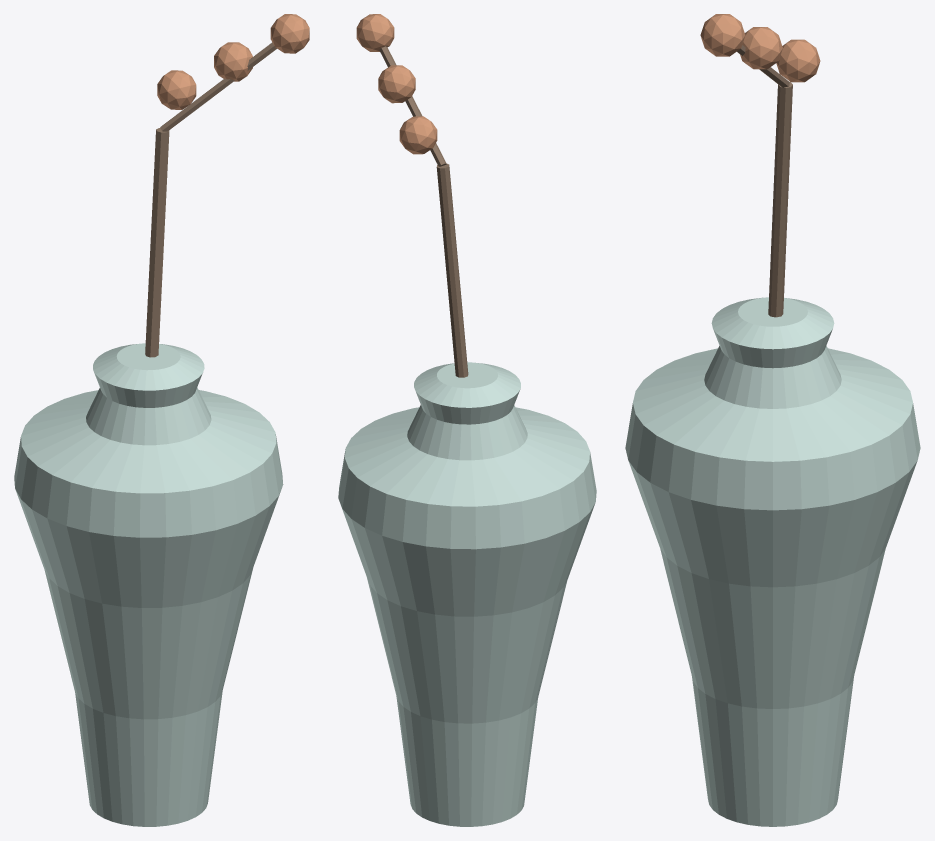
File: prop_porcelain_vase.glb
The picture shows the model from 3 angles, left to right: view 1: azimuth 30°, elevation 25°; view 2: azimuth 150°, elevation 25°; view 3: azimuth 270°, elevation 25°; orthographic projection. The views are drawn at different scales.
Visible parts, largest first — view 1: prop_porcelain_vase/porcelain_plum_vase_00000, prop_porcelain_vase/vase_plum_twig_00001, prop_porcelain_vase/plum_blossom_bud_00003, prop_porcelain_vase/plum_blossom_bud_00004, prop_porcelain_vase/plum_blossom_bud_00005, prop_porcelain_vase/vase_plum_branch_00002; view 2: prop_porcelain_vase/porcelain_plum_vase_00000, prop_porcelain_vase/vase_plum_twig_00001, prop_porcelain_vase/plum_blossom_bud_00004, prop_porcelain_vase/plum_blossom_bud_00005, prop_porcelain_vase/plum_blossom_bud_00003, prop_porcelain_vase/vase_plum_branch_00002; view 3: prop_porcelain_vase/porcelain_plum_vase_00000, prop_porcelain_vase/vase_plum_twig_00001, prop_porcelain_vase/plum_blossom_bud_00003, prop_porcelain_vase/plum_blossom_bud_00004, prop_porcelain_vase/plum_blossom_bud_00005.
Part boxes in pixels (<box>): prop_porcelain_vase/porcelain_plum_vase_00000: <box>14,343,283,826</box>; prop_porcelain_vase/vase_plum_twig_00001: <box>145,128,169,357</box>; prop_porcelain_vase/plum_blossom_bud_00003: <box>270,14,309,53</box>; prop_porcelain_vase/plum_blossom_bud_00004: <box>157,70,196,109</box>; prop_porcelain_vase/plum_blossom_bud_00005: <box>214,42,252,81</box>; prop_porcelain_vase/vase_plum_branch_00002: <box>160,42,276,131</box>; prop_porcelain_vase/porcelain_plum_vase_00000: <box>338,362,596,826</box>; prop_porcelain_vase/vase_plum_twig_00001: <box>436,163,468,377</box>; prop_porcelain_vase/plum_blossom_bud_00004: <box>399,116,437,154</box>; prop_porcelain_vase/plum_blossom_bud_00005: <box>378,65,415,103</box>; prop_porcelain_vase/plum_blossom_bud_00003: <box>356,14,394,51</box>; prop_porcelain_vase/vase_plum_branch_00002: <box>379,46,446,166</box>; prop_porcelain_vase/porcelain_plum_vase_00000: <box>625,297,920,826</box>; prop_porcelain_vase/vase_plum_twig_00001: <box>768,81,792,317</box>; prop_porcelain_vase/plum_blossom_bud_00003: <box>700,14,745,56</box>; prop_porcelain_vase/plum_blossom_bud_00004: <box>776,39,820,82</box>; prop_porcelain_vase/plum_blossom_bud_00005: <box>740,27,782,69</box>.
Size of the model in its own units: 0.256 by 0.758 by 0.236.
